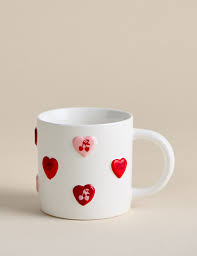mug: (21, 100, 180, 233)
